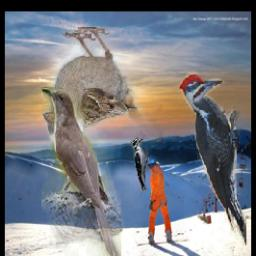Cuckoo: (42, 87, 122, 256)
Sparrow: (43, 28, 164, 145)
Woodpecker: (177, 72, 246, 246), (131, 137, 149, 193)
